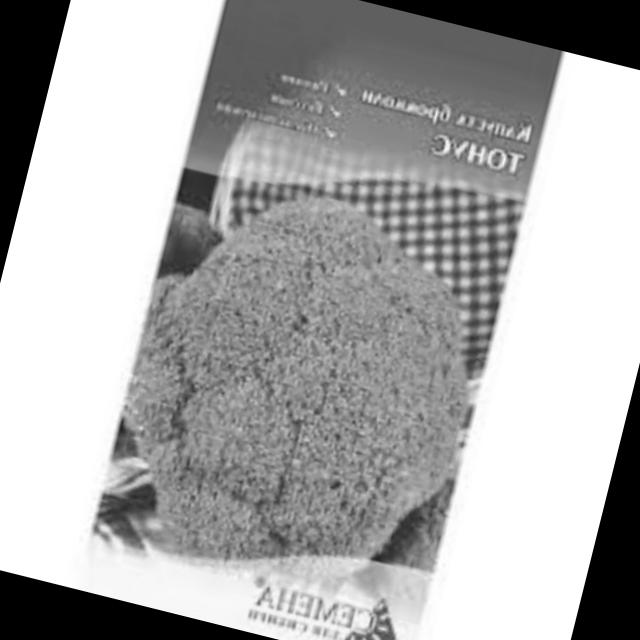bong cai xanh: (82, 160, 518, 616)
